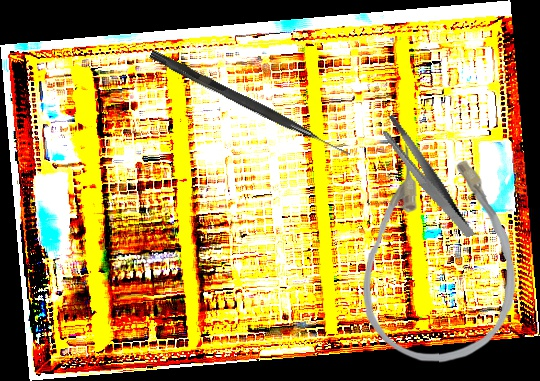Cannula: (361, 143, 519, 364)
Dressing Forceps: (377, 102, 476, 253)
Hook Surgical: (147, 49, 354, 159)
